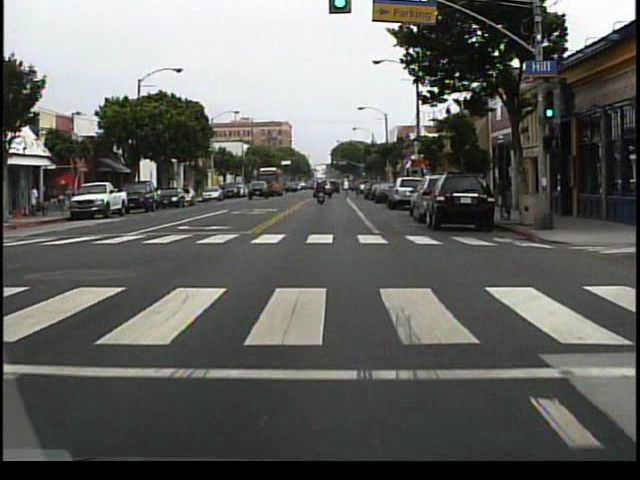person: (29, 182, 43, 219), (314, 183, 328, 209)
